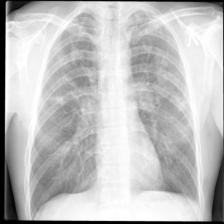tuberculosis: (20, 1, 210, 224)
